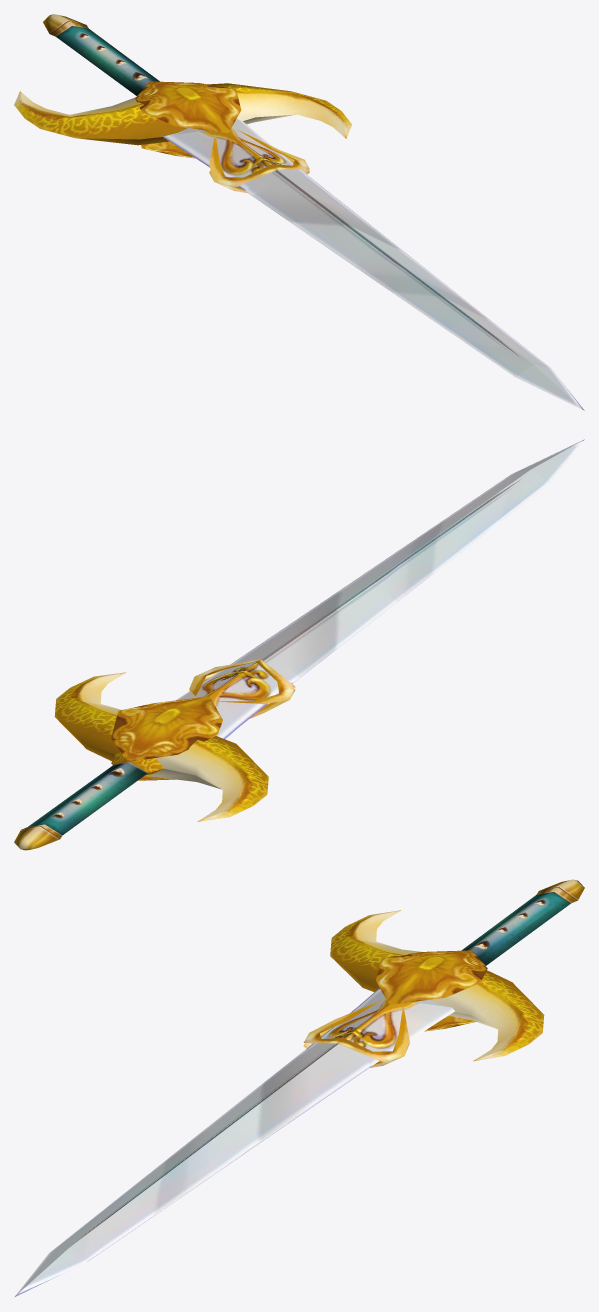
Rendered from dual0010_l.fbx.
3 views of the same model, one above another, from view 1: azimuth 30°, elevation 25°; view 2: azimuth 150°, elevation 25°; view 3: azimuth 330°, elevation 25° (orthographic). The views are drawn at different scales.
Visible parts, largest first — view 1: dual0010_l; view 2: dual0010_l; view 3: dual0010_l.
Part boxes in pixels (x1,y1,x2,y2): dual0010_l: [14, 14, 584, 410]; dual0010_l: [14, 439, 584, 850]; dual0010_l: [14, 879, 584, 1297].
Size of the model in its own units: 0.2039 by 0.0416 by 0.7713.
Materials: 1 (1 with a texture image).
